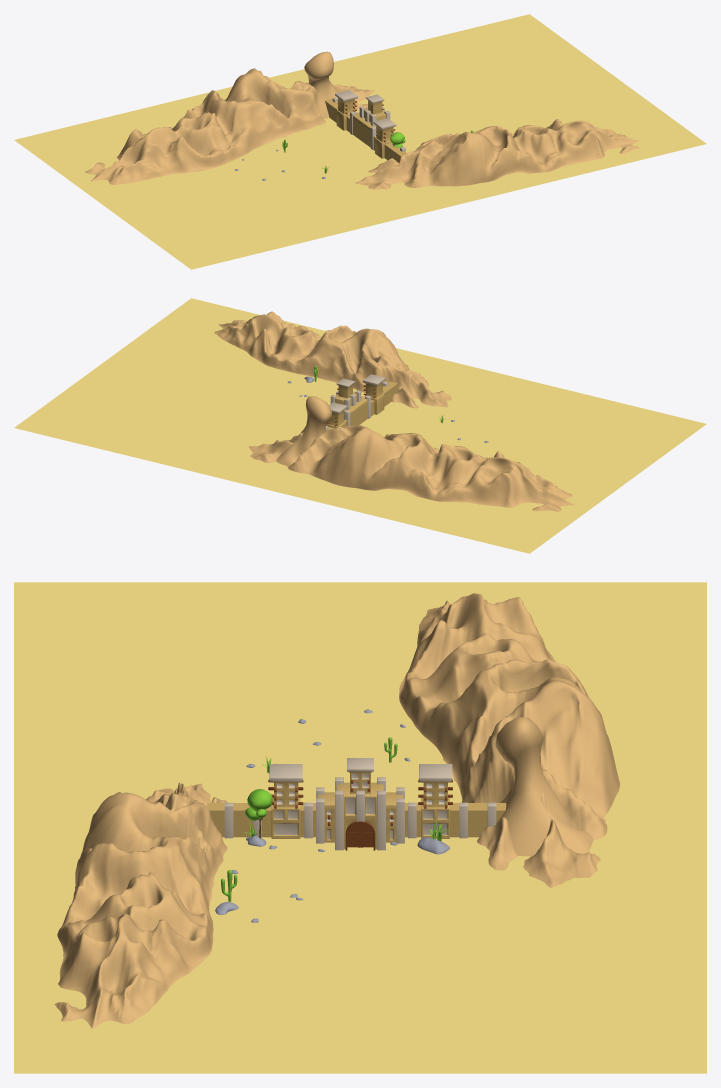
Rendered from Desert.fbx.
3 views of the same model, one above another, from view 1: azimuth 30°, elevation 25°; view 2: azimuth 150°, elevation 25°; view 3: azimuth 270°, elevation 25° (orthographic). The views are drawn at different scales.
Parts seen in each view (by area): view 1: Earth, Stone.002, Stone.001, Gates, Walls, Tower, Tower_2; view 2: Earth, Stone.002, Stone.001, Gates, Tower_2; view 3: Earth, Stone.002, Stone.001, Gates, Walls, Tower_2, Tower, Rock.
Part boxes in pixels (x1,y1,x2,y2): Earth: (14, 14, 706, 269); Stone.002: (85, 51, 374, 185); Stone.001: (355, 119, 639, 189); Gates: (350, 94, 390, 149); Walls: (325, 97, 406, 162); Tower: (335, 90, 357, 130); Tower_2: (373, 118, 396, 158); Earth: (14, 298, 706, 553); Stone.002: (248, 396, 574, 511); Stone.001: (214, 311, 451, 408); Gates: (330, 378, 370, 426); Tower_2: (362, 374, 385, 414); Earth: (14, 582, 706, 1073); Stone.002: (399, 593, 619, 887); Stone.001: (54, 782, 227, 1028); Gates: (316, 758, 404, 850); Walls: (207, 802, 506, 838); Tower_2: (268, 764, 303, 838); Tower: (418, 764, 452, 838); Rock: (215, 709, 449, 922).
Size of the model in its own units: 75.82 by 8.61 by 45.17.
